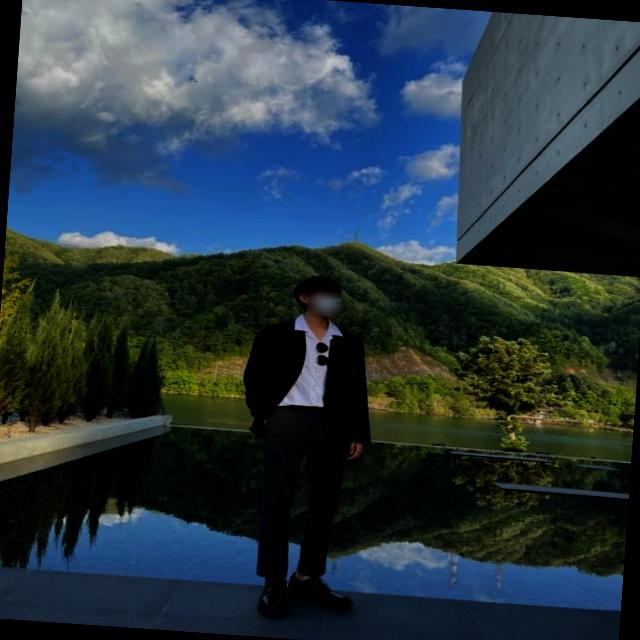blazer: (236, 314, 376, 454)
slacks: (250, 400, 348, 580)
